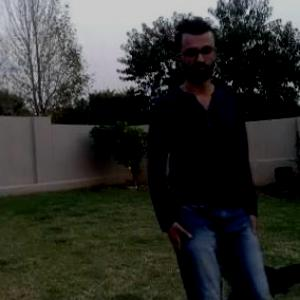follow: (151, 12, 251, 299)
